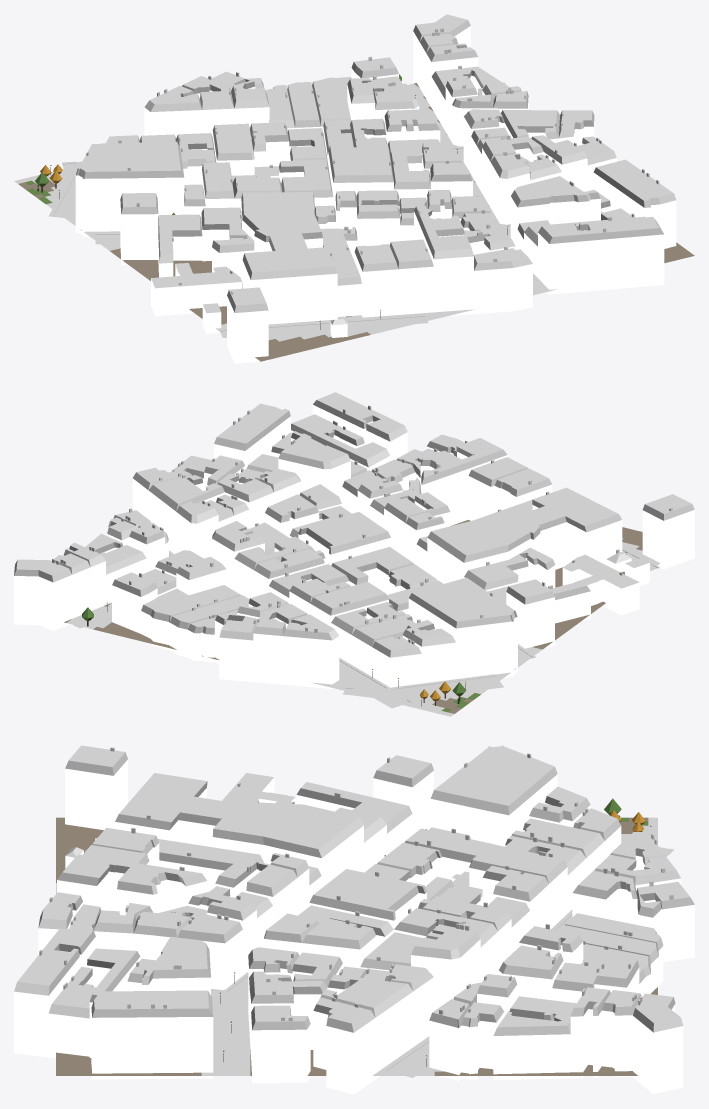
The model's file is zone_A2.glb.
3 renders of one model, top to bottom at view 1: azimuth 30°, elevation 25°; view 2: azimuth 150°, elevation 25°; view 3: azimuth 270°, elevation 25°, orthographic. The views are drawn at different scales.
Parts seen in each view (by area): view 1: zone_A2_batiments, zone_A2_terrain, zone_A2_sol_NOCOL; view 2: zone_A2_batiments, zone_A2_terrain, zone_A2_sol_NOCOL, zone_A2_decor_NOCOL; view 3: zone_A2_batiments, zone_A2_terrain, zone_A2_sol_NOCOL.
Boxes of the visible parts, x1,y1,x2,y2 form: zone_A2_batiments: [75, 14, 676, 363]; zone_A2_terrain: [14, 83, 694, 361]; zone_A2_sol_NOCOL: [49, 108, 541, 337]; zone_A2_batiments: [14, 392, 694, 688]; zone_A2_terrain: [64, 520, 660, 716]; zone_A2_sol_NOCOL: [73, 548, 659, 708]; zone_A2_decor_NOCOL: [82, 552, 626, 706]; zone_A2_batiments: [14, 745, 694, 1094]; zone_A2_terrain: [56, 817, 657, 1075]; zone_A2_sol_NOCOL: [211, 839, 674, 1077].
Bounding box in the file's own units: 210 × 27.85 × 210.
